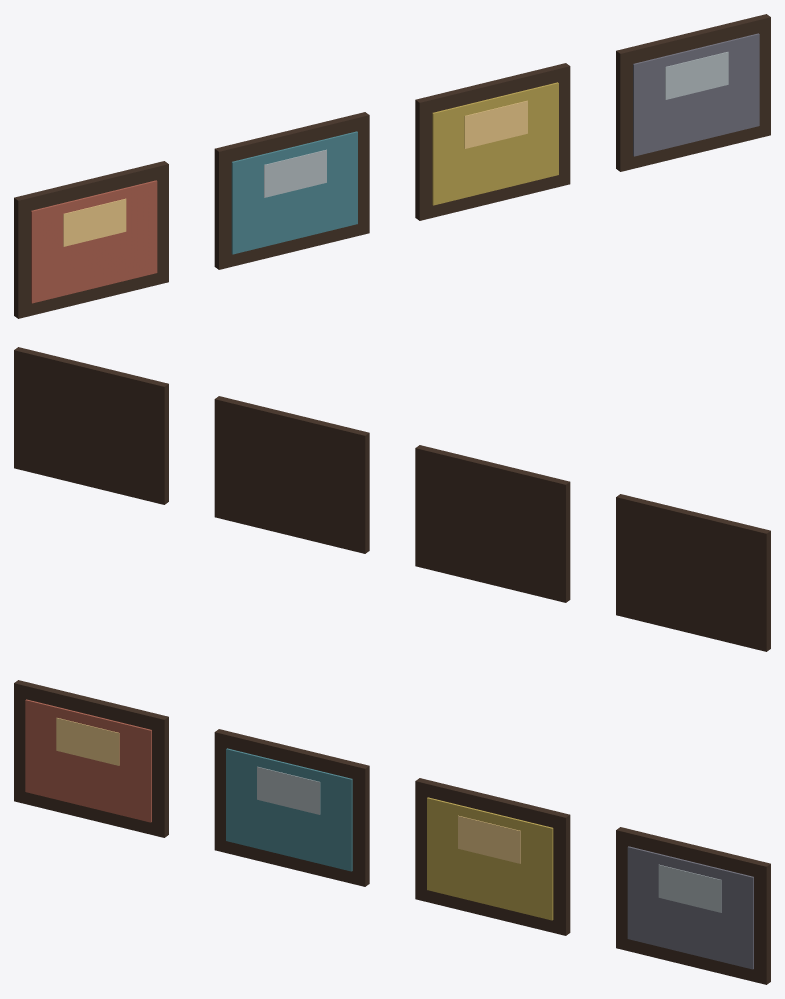
File: Frames.fbx
The picture shows the model from 3 angles, top to bottom: view 1: azimuth 30°, elevation 25°; view 2: azimuth 150°, elevation 25°; view 3: azimuth 330°, elevation 25°; orthographic projection.
Parts seen in each view (by area): view 1: Frames; view 2: Frames; view 3: Frames.
Boxes of the visible parts, box(x1,y1,x2,y2) form: Frames: box(14, 14, 770, 318); Frames: box(14, 347, 770, 651); Frames: box(14, 680, 770, 984).
Bounding box in the file's own units: 6 × 0.9 × 0.08.
